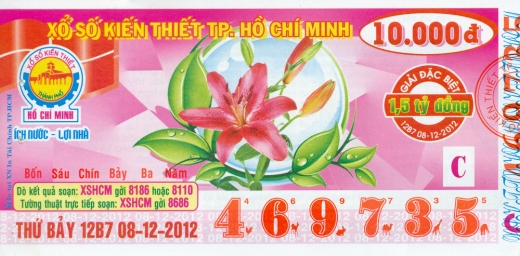serial_zone: (206, 191, 499, 243)
